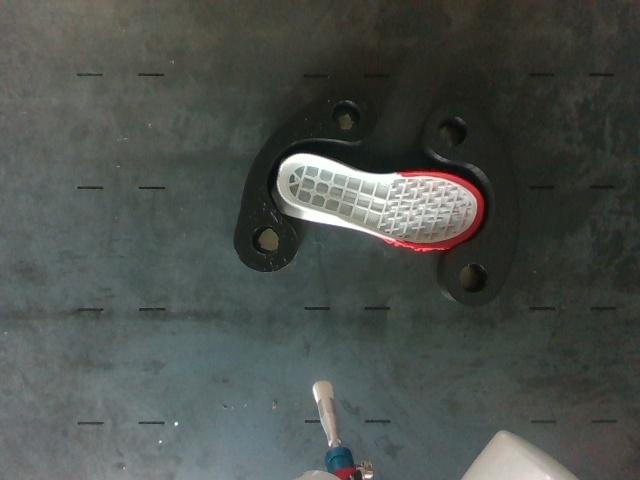shoes: (278, 153, 483, 249)
